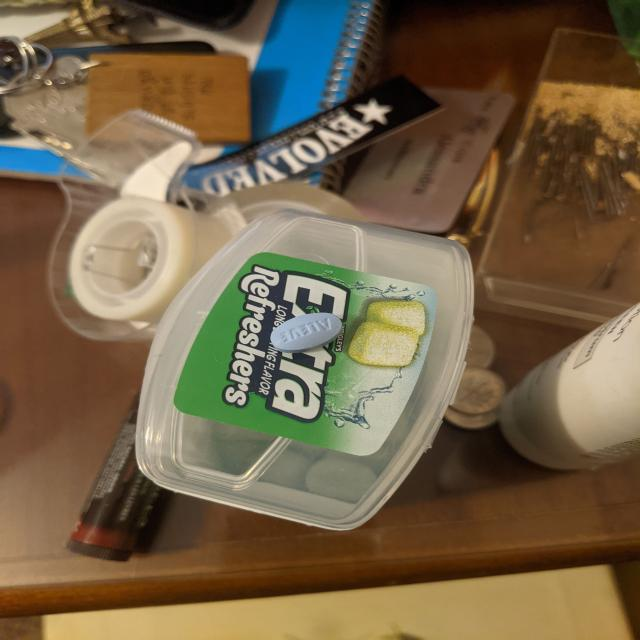non-organic waste: (270, 311, 343, 354)
